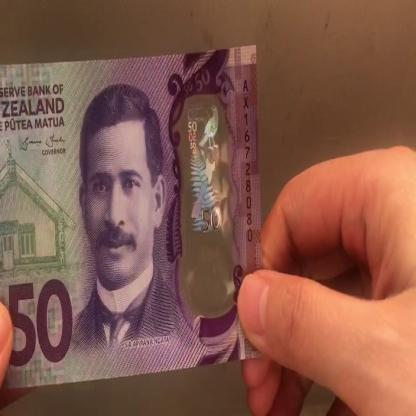50F: (181, 98, 232, 304)
